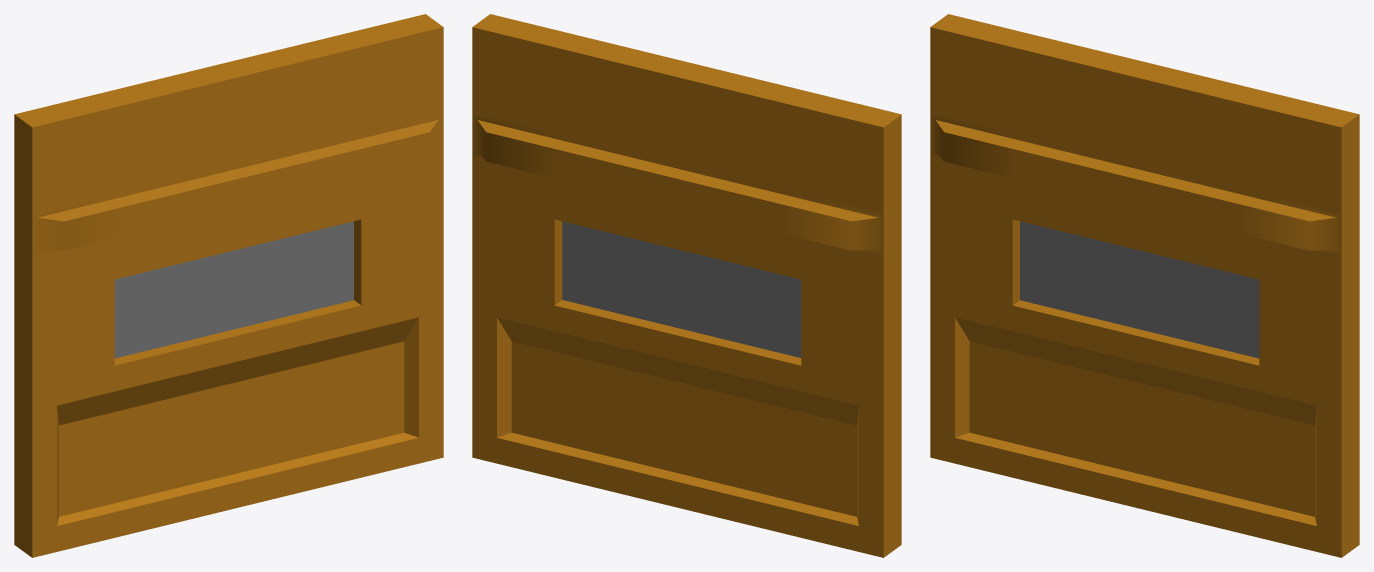
File: stone_wall_window_4x4.fbx
The picture shows the model from 3 angles, left to right: view 1: azimuth 30°, elevation 25°; view 2: azimuth 150°, elevation 25°; view 3: azimuth 330°, elevation 25°; orthographic projection.
Parts seen in each view (by area): view 1: stone_wall_window_4x4; view 2: stone_wall_window_4x4; view 3: stone_wall_window_4x4.
Boxes of the visible parts, <box> form: stone_wall_window_4x4: <box>14,14,443,557</box>; stone_wall_window_4x4: <box>472,14,901,557</box>; stone_wall_window_4x4: <box>930,14,1359,557</box>.
Size of the model in its own units: 18.2 by 18.2 by 2.76.
